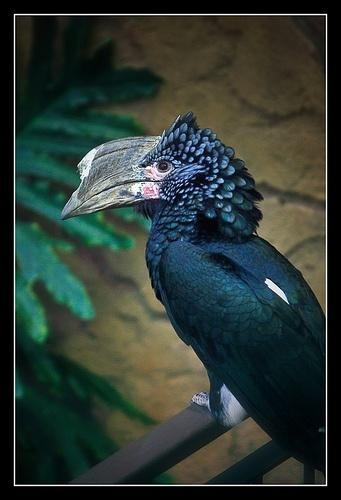bird: (61, 111, 328, 474)
